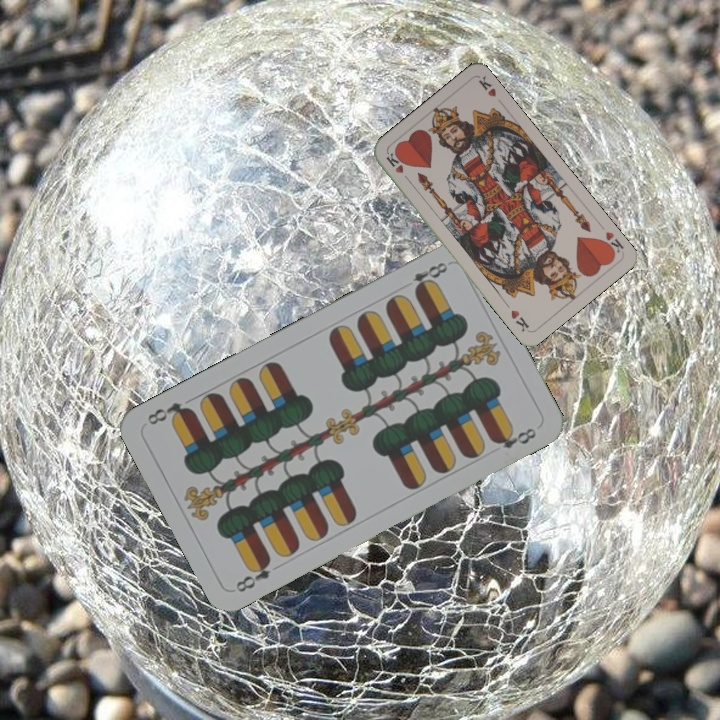E8: (231, 553, 274, 595), (408, 258, 453, 296)
HK: (382, 148, 413, 185), (598, 228, 627, 259)
